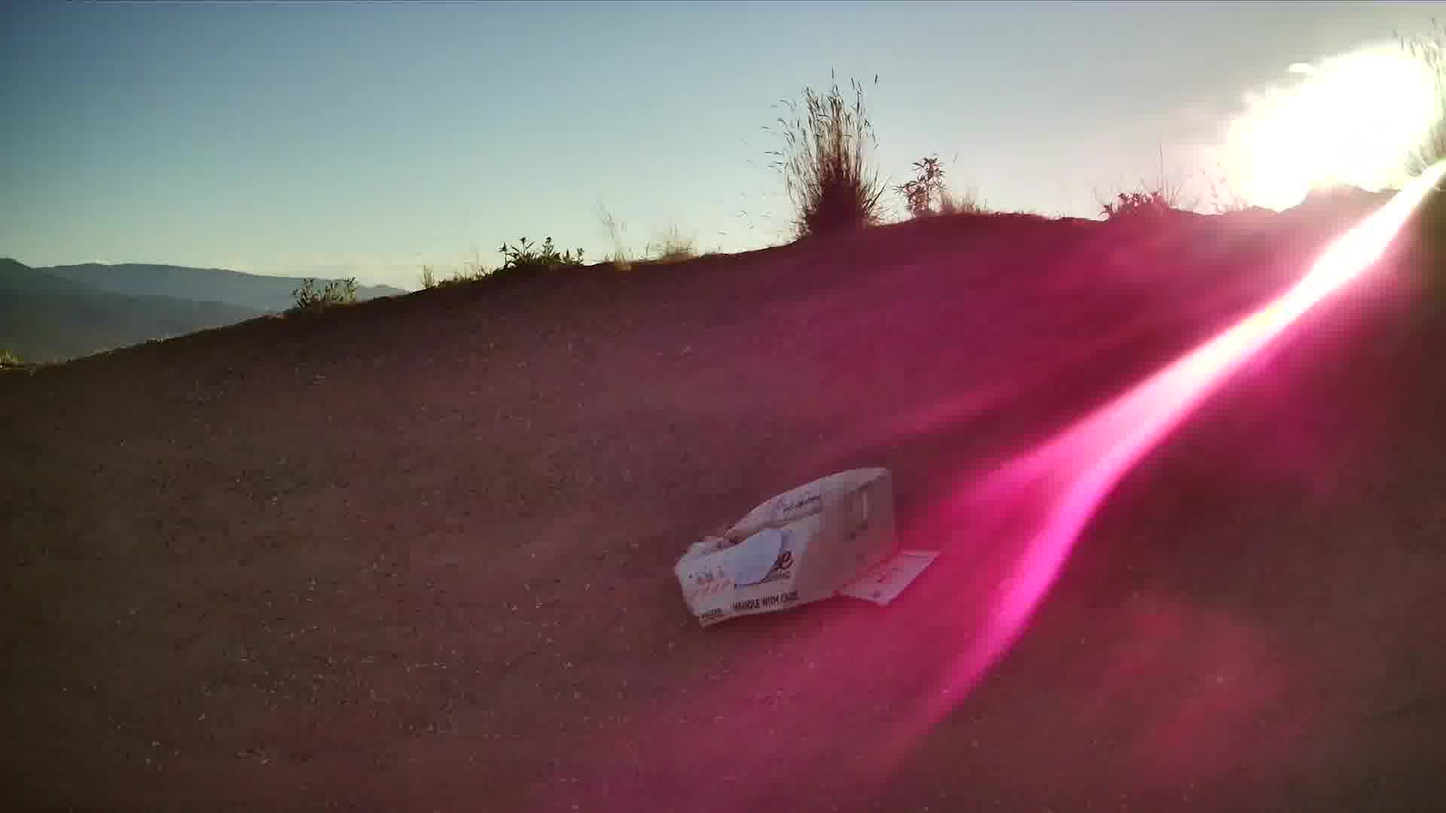Target: (727, 525, 778, 587)
